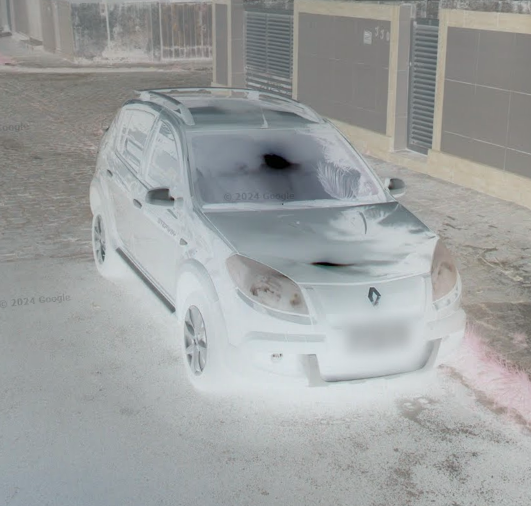car: (85, 85, 469, 395)
